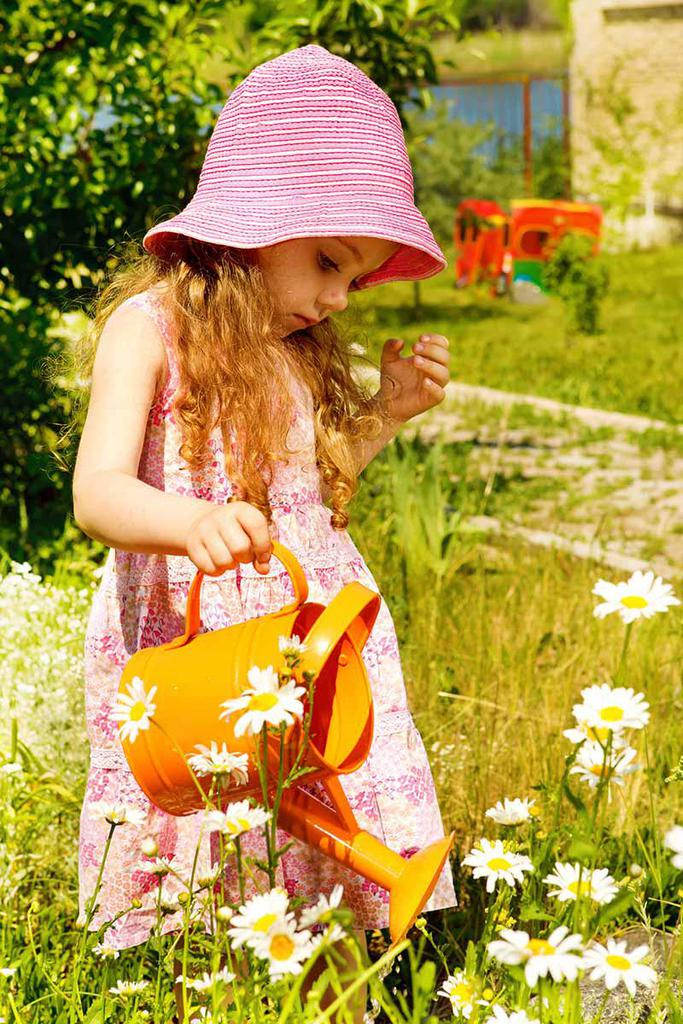child: (37, 35, 484, 966)
